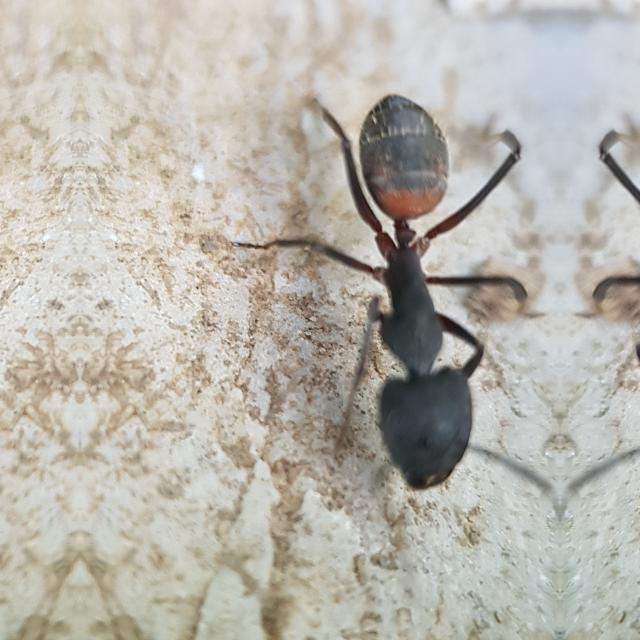Camponotus: (290, 37, 534, 550), (584, 36, 640, 548)
